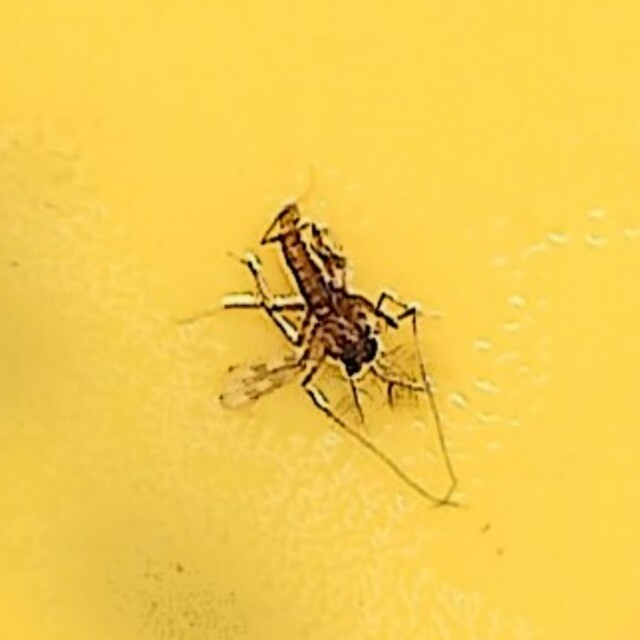Nematocera: (199, 206, 441, 434)
